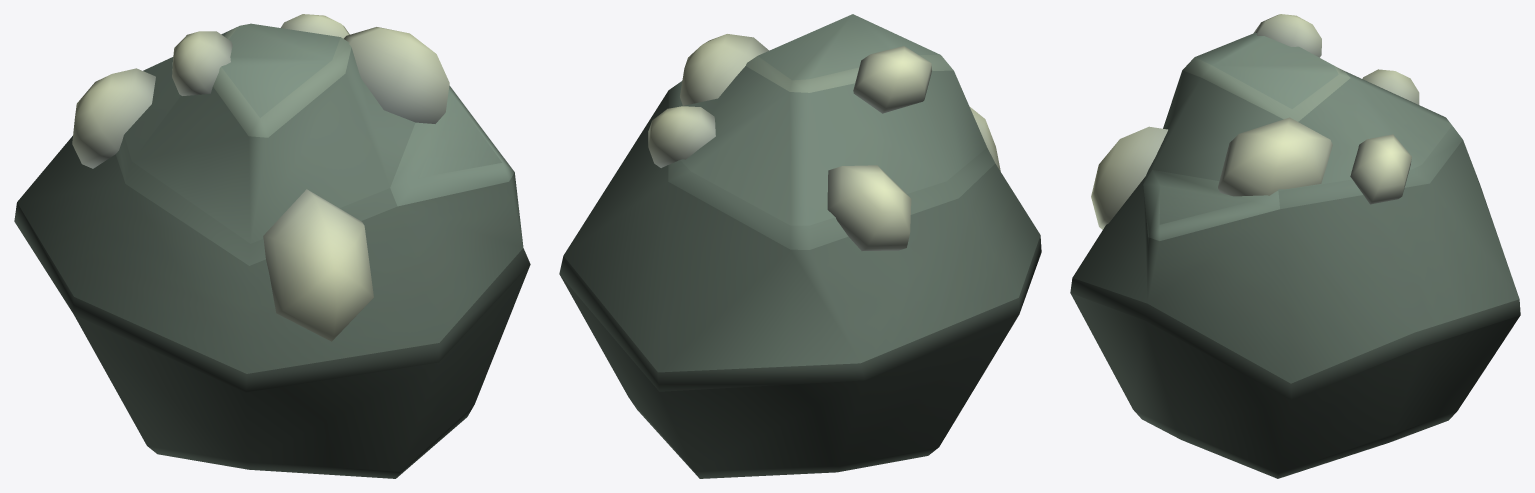
The model's file is ore_nuggets_iron_M.fbx.
The picture shows the model from 3 angles, left to right: view 1: azimuth 30°, elevation 25°; view 2: azimuth 150°, elevation 25°; view 3: azimuth 270°, elevation 25°; orthographic projection. The views are drawn at different scales.
Visible parts, largest first — view 1: ore_nuggets_iron_M; view 2: ore_nuggets_iron_M; view 3: ore_nuggets_iron_M.
Boxes of the visible parts, <box> form: ore_nuggets_iron_M: <box>14,14,530,478</box>; ore_nuggets_iron_M: <box>559,14,1041,478</box>; ore_nuggets_iron_M: <box>1070,14,1520,478</box>.
Bounding box in the file's own units: 137 × 136 × 139.
1 material, 1 textured.
